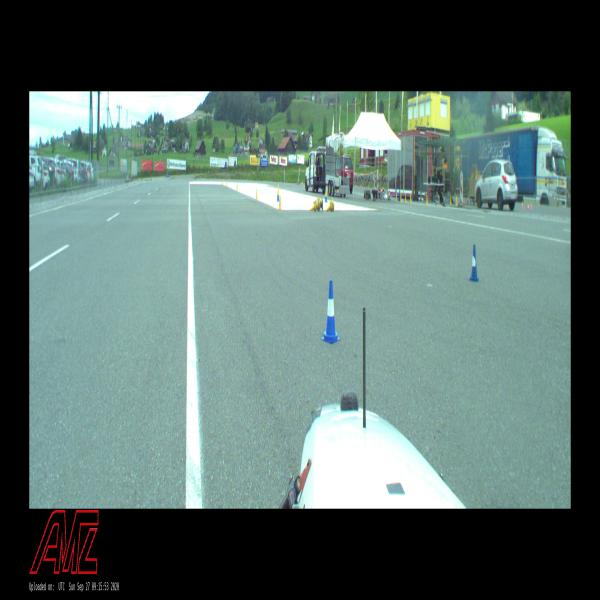blue_cone: (322, 280, 340, 343), (469, 245, 479, 281)
